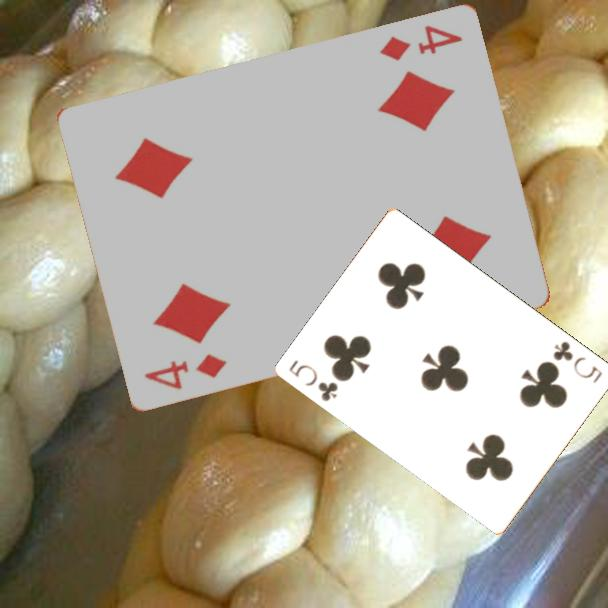c05: (285, 356, 342, 405), (550, 337, 606, 386)
d04: (376, 21, 466, 63), (141, 350, 230, 392)
